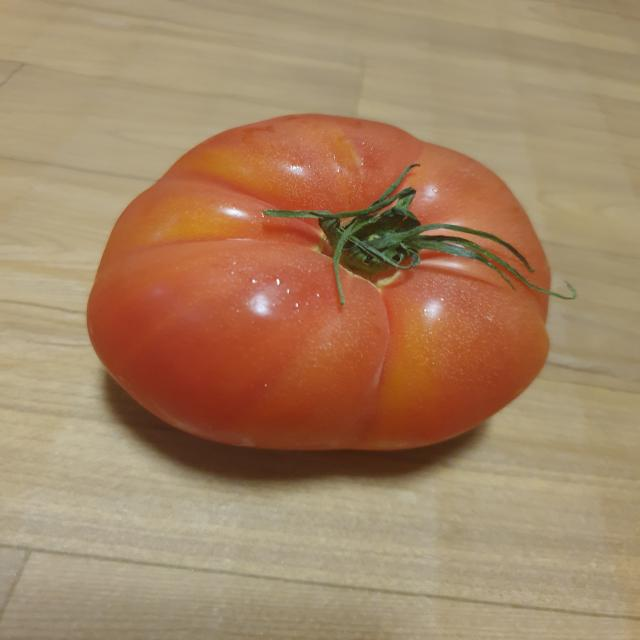tomato: (85, 113, 553, 454)
